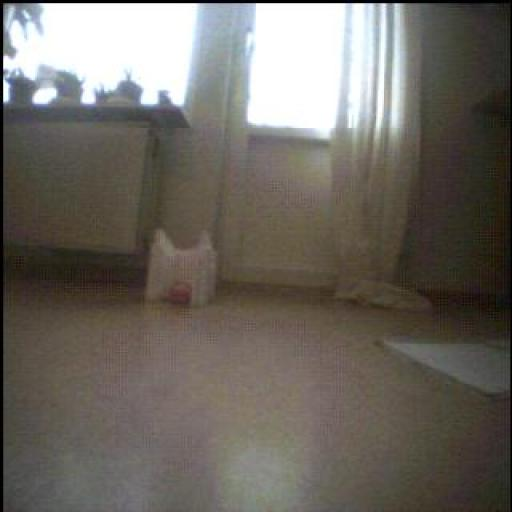Basket: (171, 283, 193, 307)
